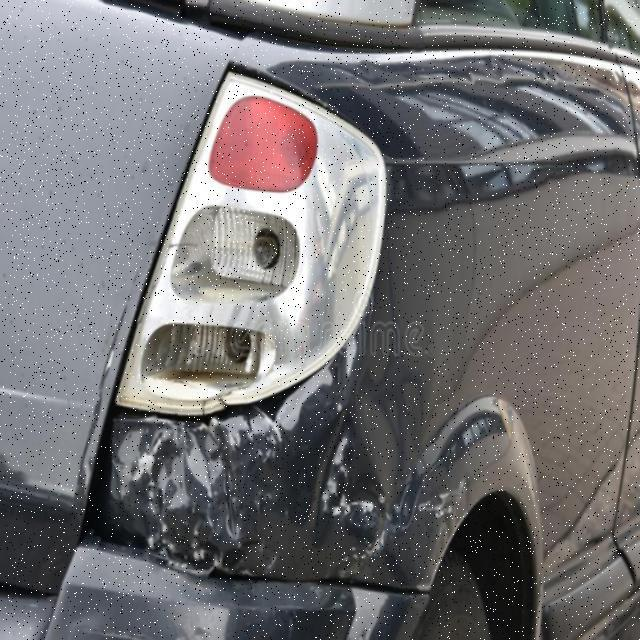Taillight-Damage: (103, 34, 397, 428)
quaterpanel-dent: (101, 407, 624, 581)
